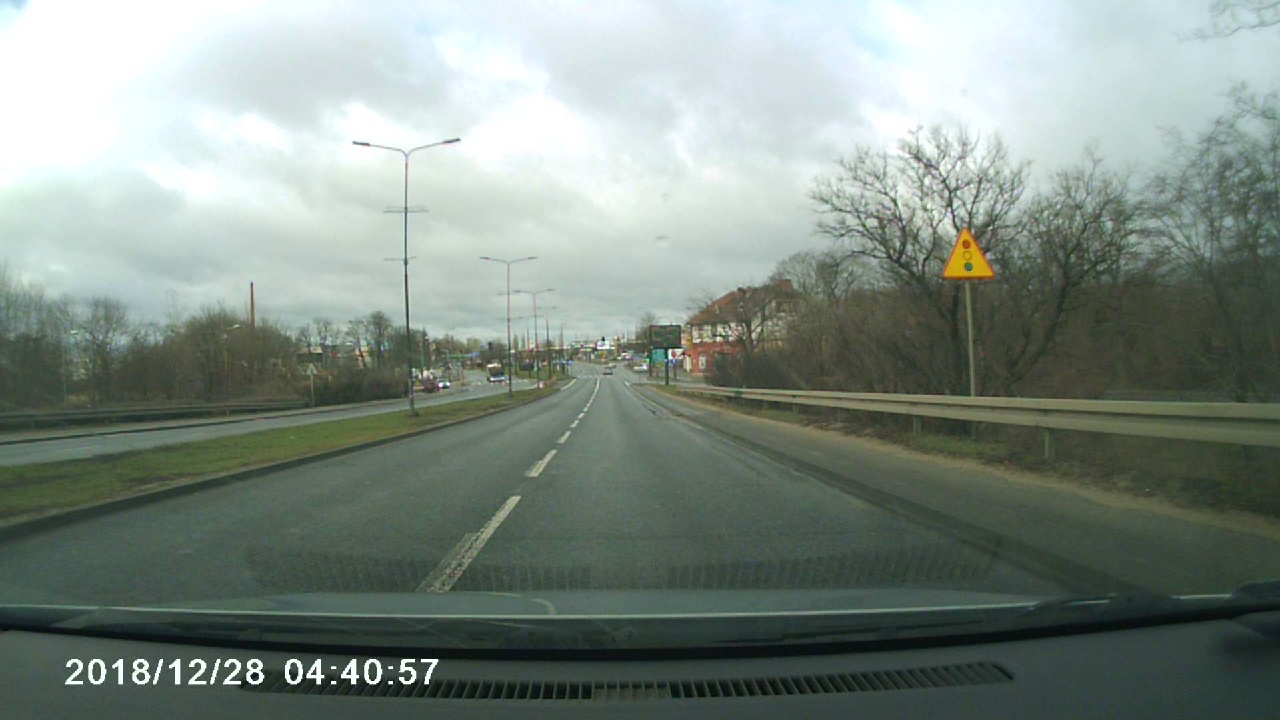A29: (940, 224, 1000, 276)
